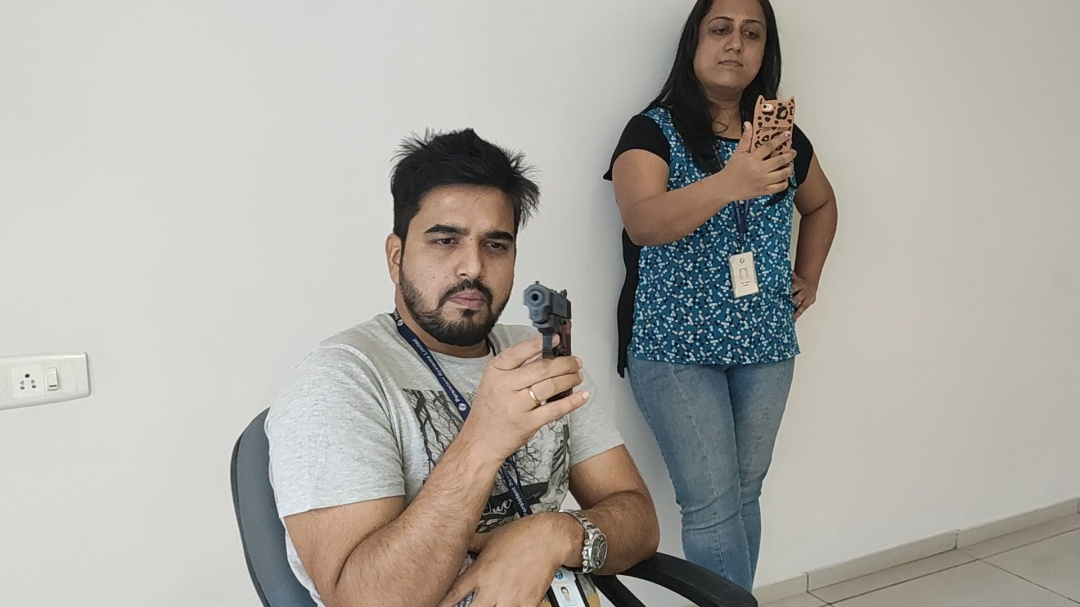gun: (522, 281, 571, 356)
